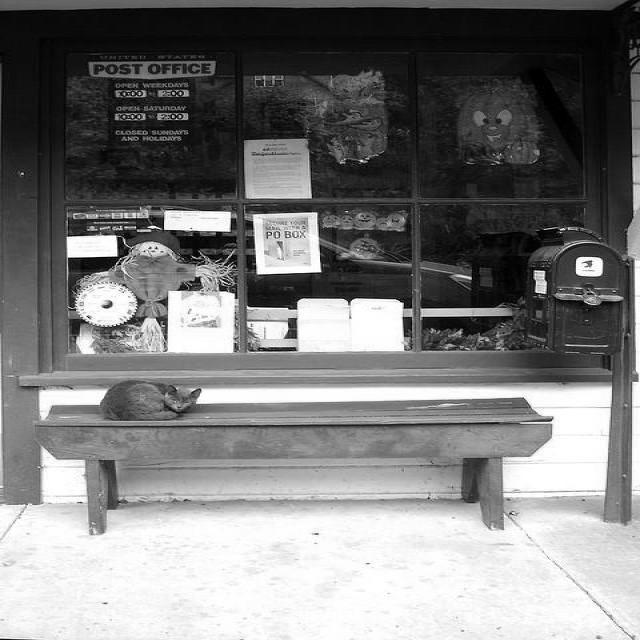vehicle: (246, 211, 478, 313)
